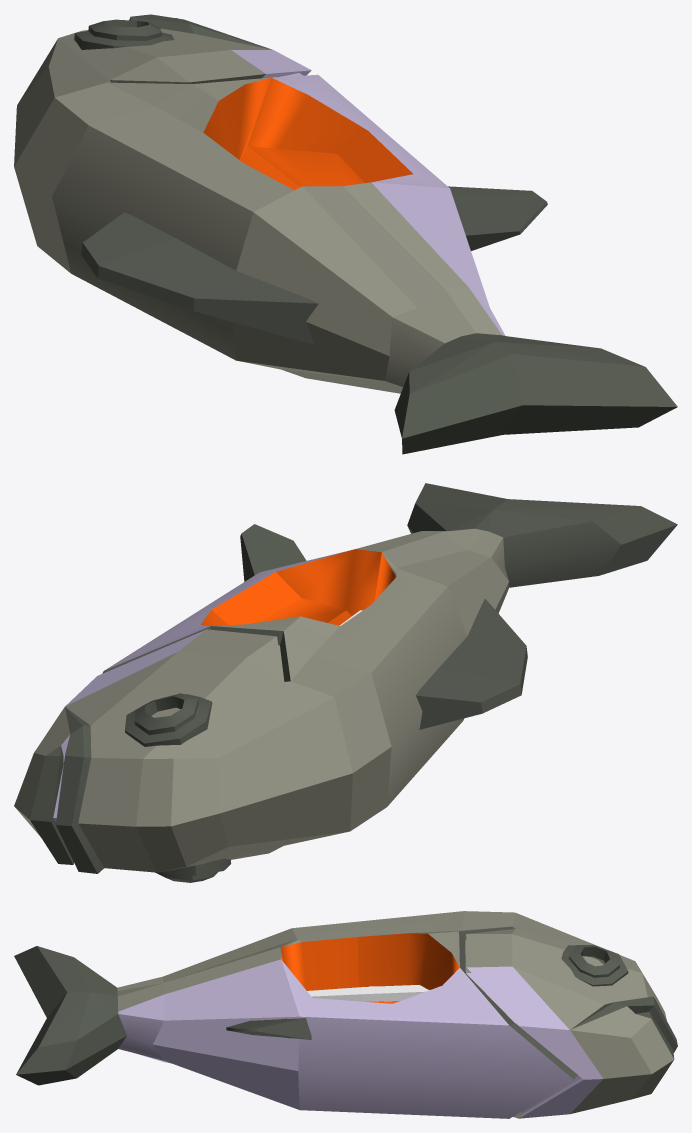
The model's file is food_fish_halfeaten.fbx.
3 renders of one model, top to bottom at view 1: azimuth 30°, elevation 25°; view 2: azimuth 150°, elevation 25°; view 3: azimuth 270°, elevation 25°, orthographic. The views are drawn at different scales.
Parts seen in each view (by area): view 1: polySurface151; view 2: polySurface151; view 3: polySurface151.
Boxes of the visible parts, left/top/right/bottom form: polySurface151: left=14, top=14, right=677, bottom=454; polySurface151: left=14, top=483, right=677, bottom=882; polySurface151: left=14, top=911, right=677, bottom=1118.
Size of the model in its own units: 62.85 by 35.6 by 140.
Materials: 1 (1 with a texture image).
